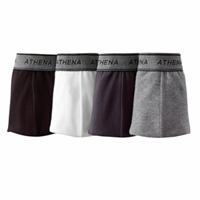mutande: (128, 52, 189, 137), (88, 52, 137, 136), (49, 53, 97, 136), (7, 53, 55, 135)
